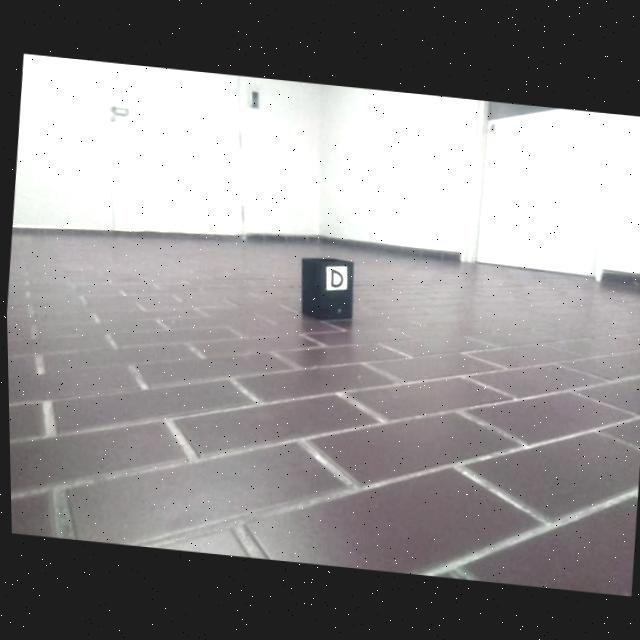D: (328, 268, 343, 288)
